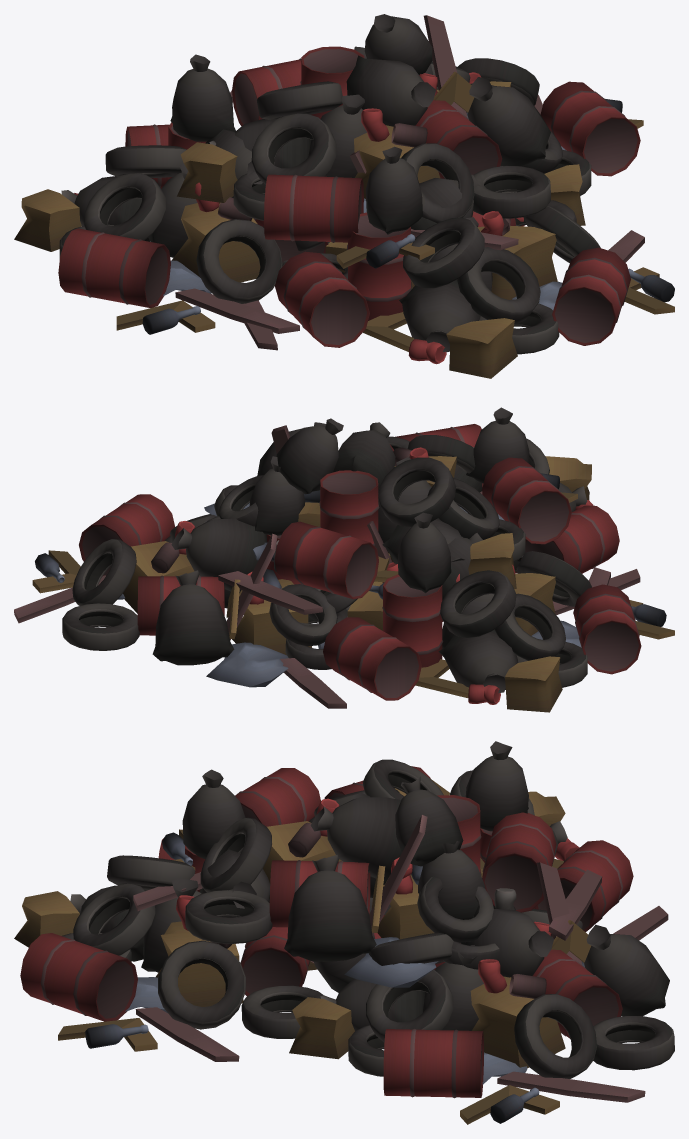
Rendered from Asset_Trash_Big.fbx.
The picture shows the model from 3 angles, top to bottom: view 1: azimuth 30°, elevation 25°; view 2: azimuth 150°, elevation 25°; view 3: azimuth 270°, elevation 25°; orthographic projection. The views are drawn at different scales.
Parts seen in each view (by area): view 1: Trash_Big; view 2: Trash_Big; view 3: Trash_Big.
Part boxes in pixels (x1=…): Trash_Big: x1=14, y1=14, x2=674, y2=378; Trash_Big: x1=14, y1=407, x2=674, y2=712; Trash_Big: x1=14, y1=741, x2=674, y2=1124.
Size of the model in its own units: 74.63 by 24.29 by 67.22.
